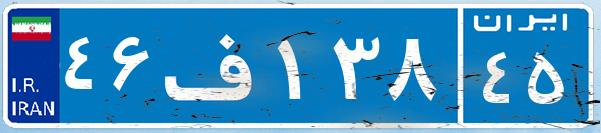1: (273, 28, 330, 110)
3: (330, 28, 385, 110)
4: (57, 26, 110, 107), (475, 38, 525, 113)
5: (525, 38, 570, 115)
6: (110, 28, 158, 105)
8: (385, 28, 445, 110)
ف: (158, 15, 273, 115)
